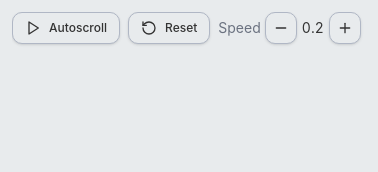
GuitarTabAutoscroll › changes the speed with the plus and minus buttons
Click the button named "Increase speed".
click(345, 28)  # box [329,12,361,44]
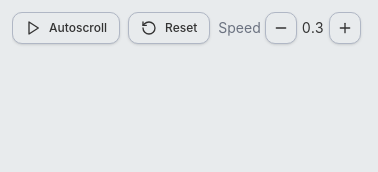
Check: the number field labelled "Speed" shows "0.3", box [302,19,324,36]
Click the button named "Decrease speed".
click(281, 28)  # box [265,12,297,44]
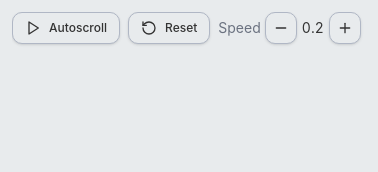
Check: the number field labelled "Speed" shows "0.2", box [302,19,324,36]
